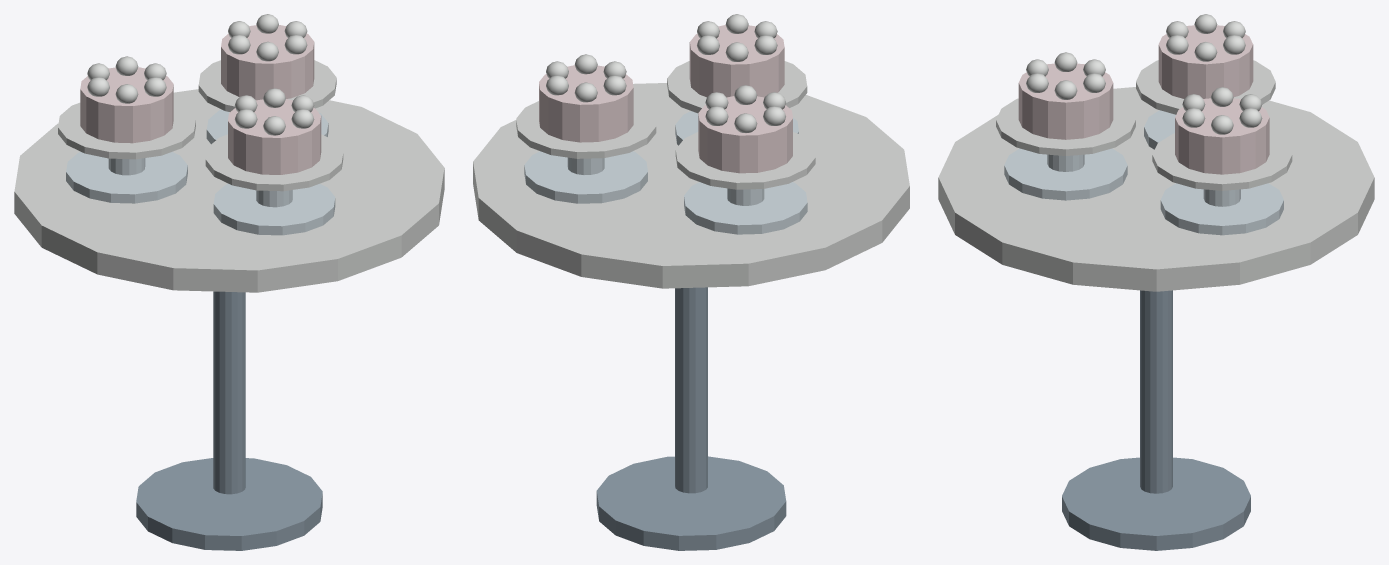
Rendered from restaurant_pastry_table.glb.
3 views of the same model, side by side, from view 1: azimuth 30°, elevation 25°; view 2: azimuth 150°, elevation 25°; view 3: azimuth 270°, elevation 25° (orthographic).
Visible parts, largest first — view 1: decor_d8dcd8_matte, decor_455665_metal, decor_c5a5a8_matte, decor_9aadb8_metal; view 2: decor_d8dcd8_matte, decor_455665_metal, decor_c5a5a8_matte, decor_9aadb8_metal; view 3: decor_d8dcd8_matte, decor_455665_metal, decor_c5a5a8_matte, decor_9aadb8_metal.
Boxes of the visible parts, x1,y1,x2,y2 form: decor_d8dcd8_matte: [14, 14, 444, 292]; decor_455665_metal: [136, 291, 322, 550]; decor_c5a5a8_matte: [80, 25, 321, 174]; decor_9aadb8_metal: [66, 109, 335, 235]; decor_d8dcd8_matte: [473, 14, 909, 288]; decor_455665_metal: [596, 287, 786, 550]; decor_c5a5a8_matte: [539, 25, 792, 173]; decor_9aadb8_metal: [524, 111, 807, 234]; decor_d8dcd8_matte: [938, 14, 1374, 291]; decor_455665_metal: [1062, 290, 1250, 550]; decor_c5a5a8_matte: [1018, 25, 1269, 174]; decor_9aadb8_metal: [1004, 110, 1283, 235].
Size of the model in its own units: 1.06 by 1.19 by 1.06.
